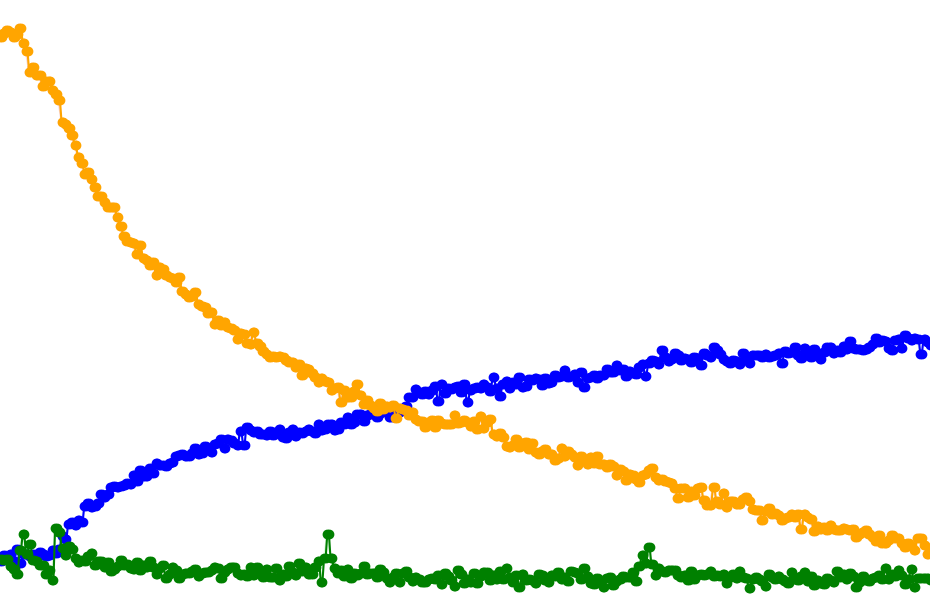CO2 Problem: (311, 0, 738, 616), (738, 0, 930, 616), (155, 0, 311, 616), (38, 0, 155, 616)
Condensation CO2: (38, 0, 311, 616), (388, 0, 583, 616), (738, 0, 930, 616), (777, 0, 930, 616), (311, 0, 388, 616), (661, 0, 738, 616)
Condensation O2: (777, 0, 930, 616), (622, 0, 738, 616), (311, 0, 388, 616)
High CO2: (349, 0, 505, 616), (777, 0, 930, 616), (622, 0, 738, 616)
High O2: (38, 0, 311, 616), (311, 0, 505, 616), (155, 0, 311, 616), (777, 0, 930, 616), (38, 0, 155, 616)
Low CO2: (311, 0, 738, 616), (311, 0, 622, 616), (311, 0, 505, 616), (738, 0, 930, 616), (155, 0, 311, 616), (777, 0, 930, 616), (38, 0, 155, 616), (622, 0, 738, 616)
Low O2: (311, 0, 622, 616), (155, 0, 311, 616), (777, 0, 930, 616), (38, 0, 155, 616), (388, 0, 505, 616), (505, 0, 622, 616), (311, 0, 388, 616), (661, 0, 738, 616), (699, 0, 738, 616), (738, 0, 777, 616)
Normal: (0, 0, 930, 616), (311, 0, 738, 616), (311, 0, 622, 616), (349, 0, 583, 616), (388, 0, 622, 616), (505, 0, 738, 616), (311, 0, 505, 616), (738, 0, 930, 616), (155, 0, 311, 616), (349, 0, 505, 616), (777, 0, 930, 616), (38, 0, 155, 616), (155, 0, 272, 616), (194, 0, 311, 616), (388, 0, 505, 616), (505, 0, 622, 616), (622, 0, 738, 616), (38, 0, 116, 616), (661, 0, 738, 616), (738, 0, 777, 616), (0, 0, 38, 616)
O2 Problem: (311, 0, 738, 616), (311, 0, 622, 616), (738, 0, 930, 616), (155, 0, 311, 616), (777, 0, 930, 616), (194, 0, 311, 616), (388, 0, 505, 616), (505, 0, 622, 616), (622, 0, 738, 616), (661, 0, 738, 616)
